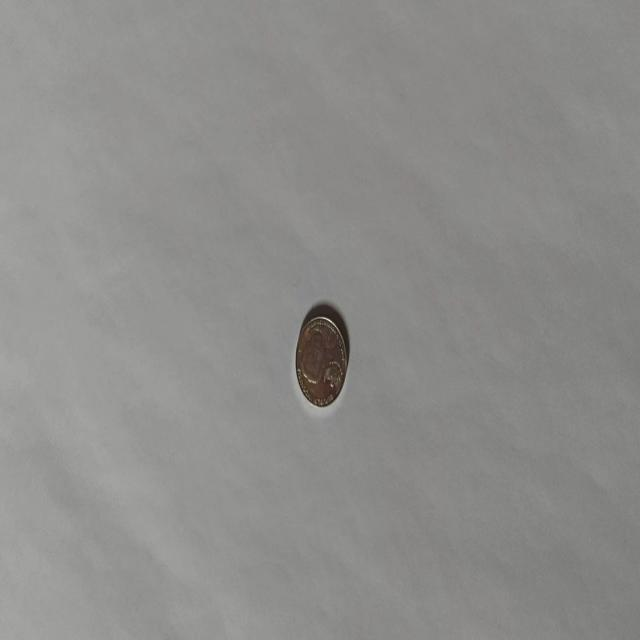seratus rupiah: (294, 314, 348, 408)
